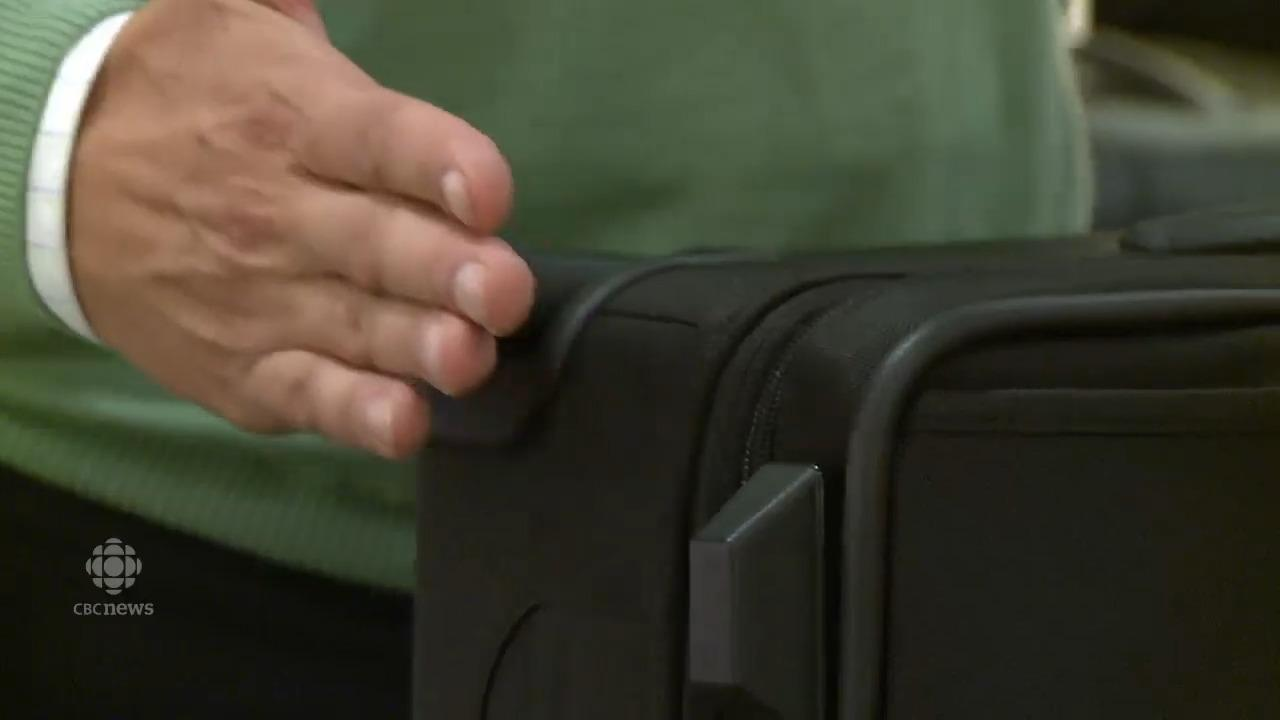luggage: (421, 234, 1280, 720)
